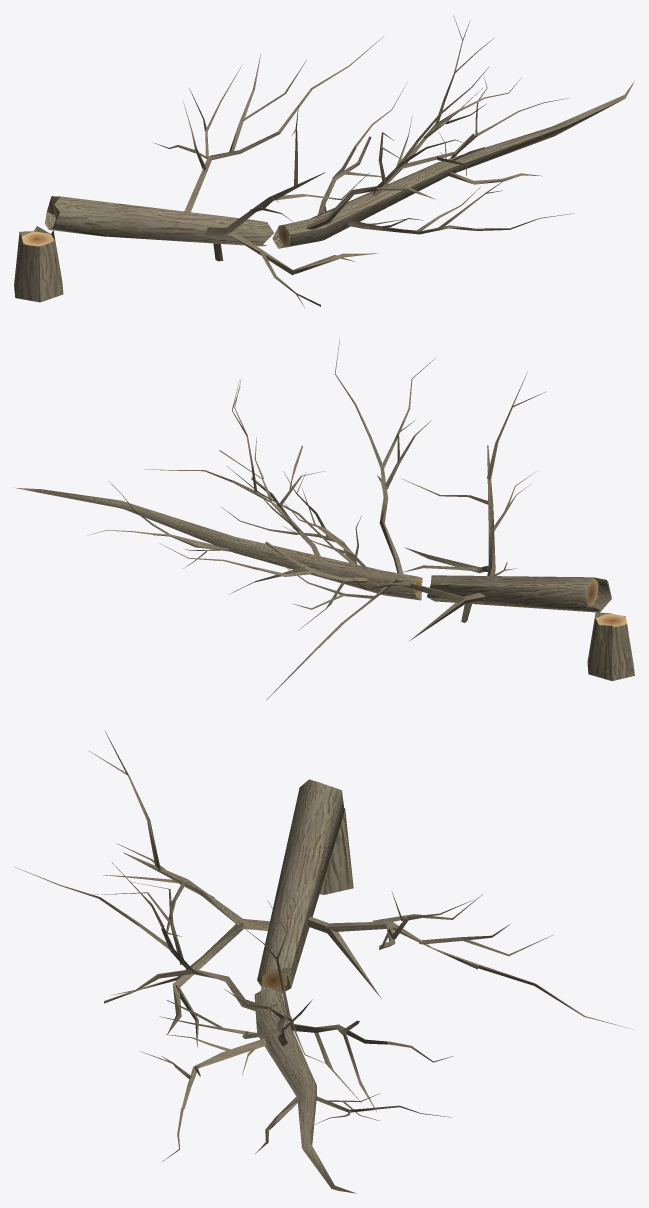
File: jungle_fallentree_noleaf_3.glb
The picture shows the model from 3 angles, top to bottom: view 1: azimuth 30°, elevation 25°; view 2: azimuth 150°, elevation 25°; view 3: azimuth 270°, elevation 25°; orthographic projection. The views are drawn at different scales.
Visible parts, largest first — view 1: jungle_fallentree_noleaf_3; view 2: jungle_fallentree_noleaf_3; view 3: jungle_fallentree_noleaf_3.
Part boxes in pixels (x1,y1,x2,y2): jungle_fallentree_noleaf_3: (14,15,634,308); jungle_fallentree_noleaf_3: (14,337,634,700); jungle_fallentree_noleaf_3: (14,730,633,1193).
Size of the model in its own units: 13.78 by 4.77 by 9.29.
Materials: 2 (2 with a texture image).
